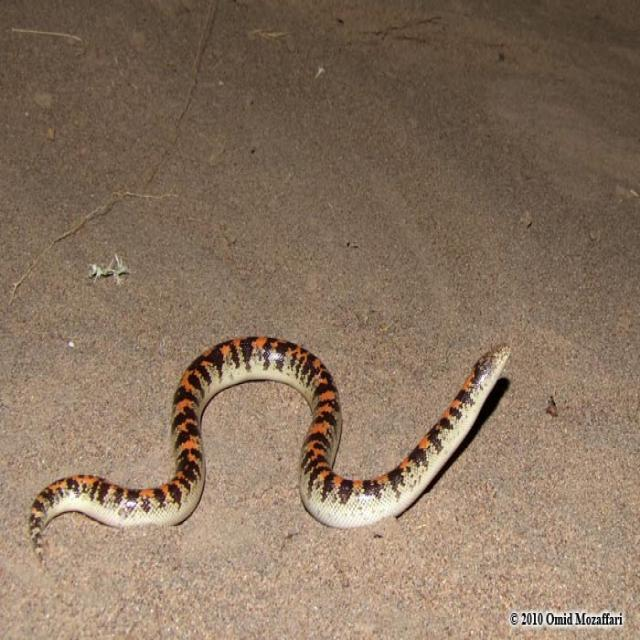Snake: (27, 327, 517, 577)
